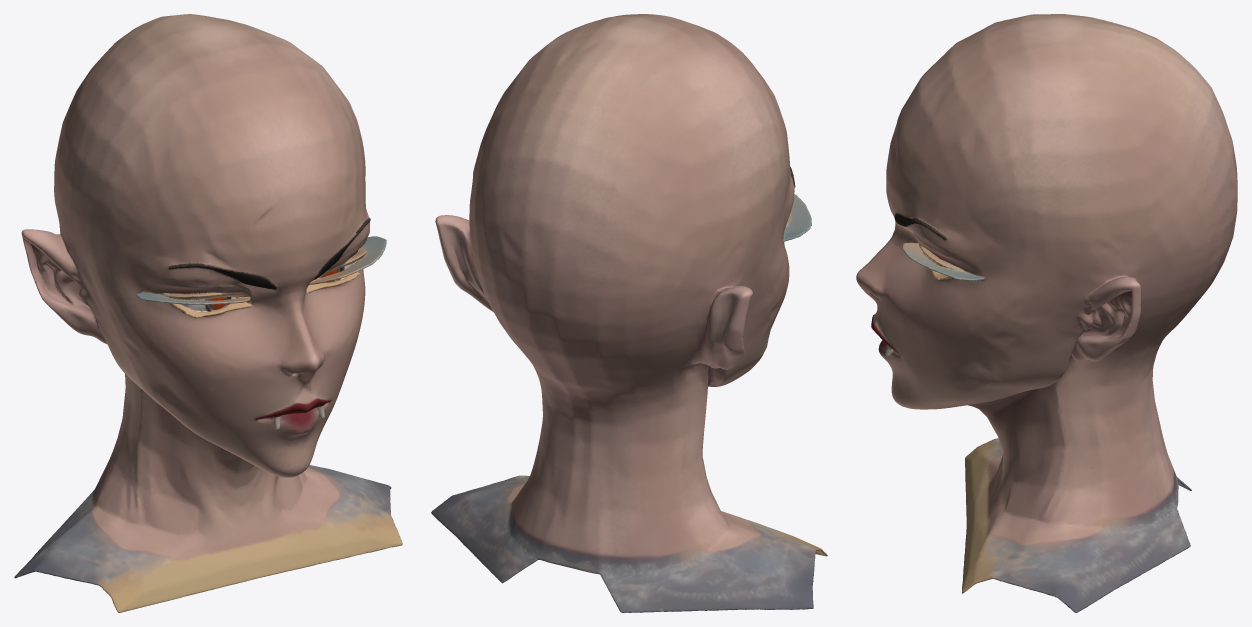
Rendered from head7v2_s56_pixal3d.glb.
The picture shows the model from 3 angles, left to right: view 1: azimuth 30°, elevation 25°; view 2: azimuth 150°, elevation 25°; view 3: azimuth 270°, elevation 25°; orthographic projection. The views are drawn at different scales.
Bounding box in the file's own units: 0.753 × 0.9808 × 0.6783.
1 material, 1 textured.
